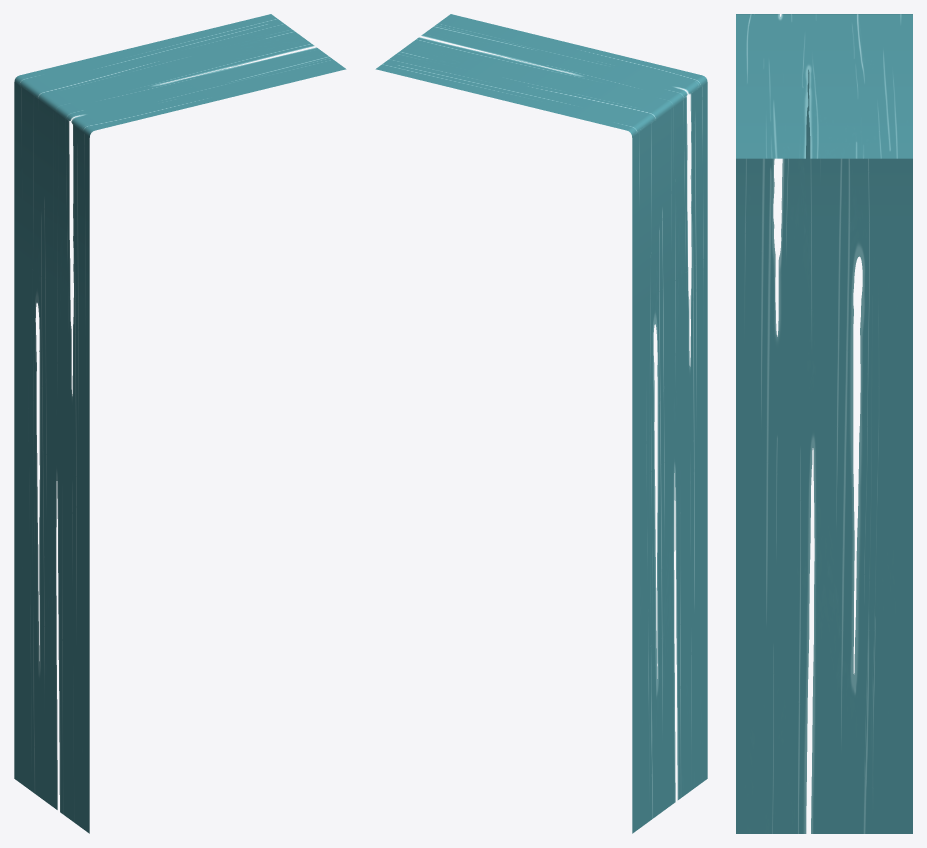
Rendered from Waterfall_Try.FBX.
The picture shows the model from 3 angles, left to right: view 1: azimuth 30°, elevation 25°; view 2: azimuth 150°, elevation 25°; view 3: azimuth 270°, elevation 25°; orthographic projection. The views are drawn at different scales.
Parts seen in each view (by area): view 1: Plane001; view 2: Plane001; view 3: Plane001.
Part boxes in pixels (left/top/right/bottom): Plane001: left=14, top=14, right=346, bottom=833; Plane001: left=375, top=14, right=707, bottom=833; Plane001: left=736, top=14, right=912, bottom=833.
Bounding box in the file's own units: 77.02 × 39.2 × 201.
